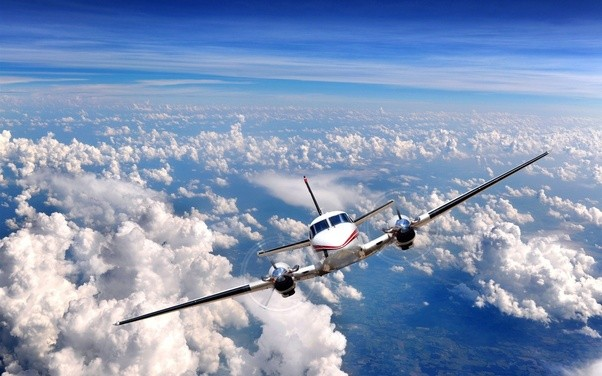plane: (111, 151, 551, 331)
